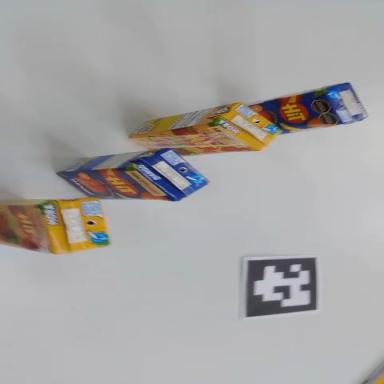HIT-MANGO: (57, 148, 208, 203), (249, 79, 367, 145)
HIT-MORA: (129, 99, 279, 160), (0, 197, 109, 254)
cara_F: (54, 158, 180, 207), (127, 120, 256, 160), (246, 87, 343, 138), (0, 204, 56, 254)
